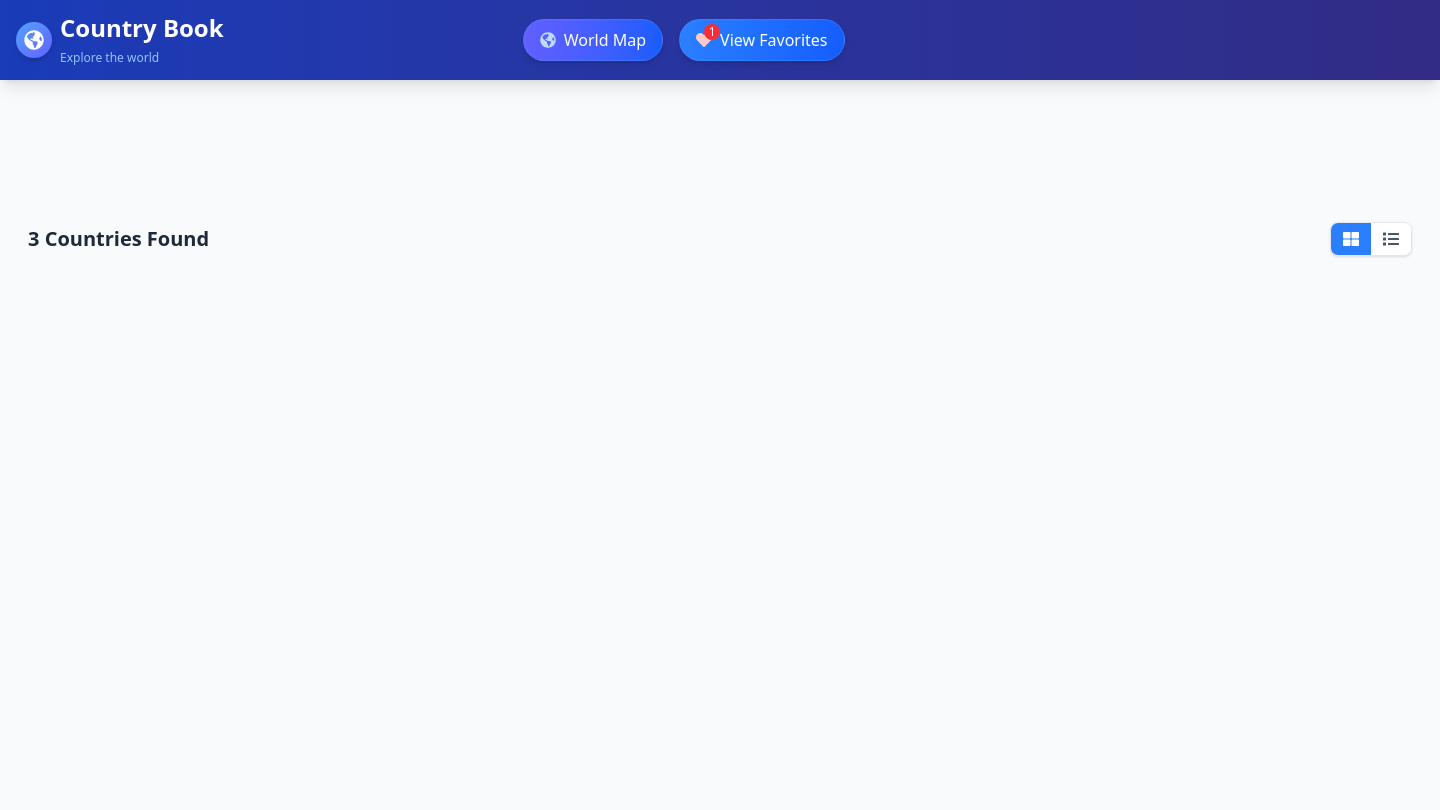
Scenario: Favorites Functionality Integration › should properly combine favorites filter with search
# Click the View Favorites button
Click the text "View Favorites" at (774, 40), box [720,28,828,52]
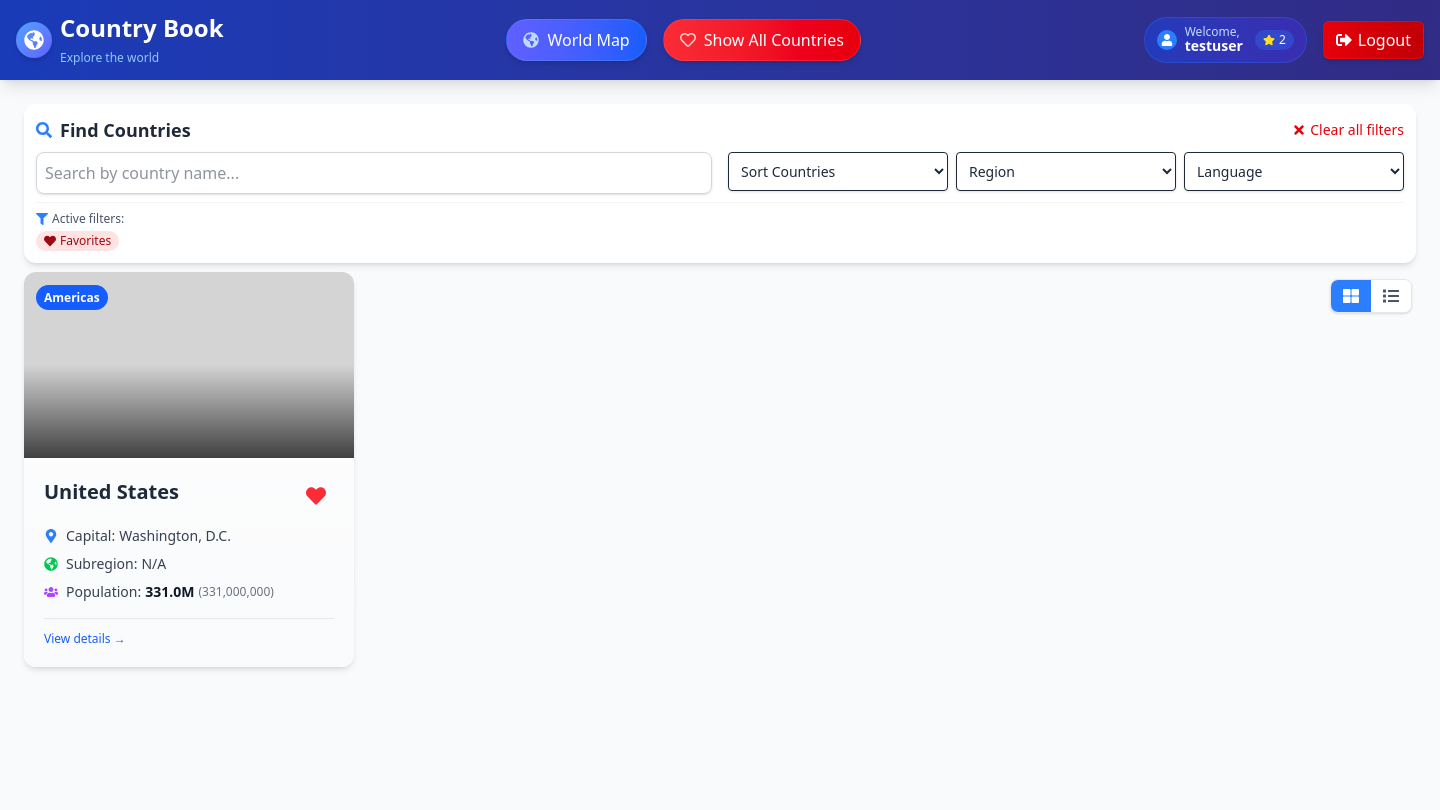
Check: the text "Favorites" is shown, box [36,231,119,251]
Check: the heading "1 Country in Favorites" is shown, box [28,282,247,310]
Check: the field with placeholder "Search by country name..." is shown
# Search for "Aus" within favorites
Type "Aus" into the field with placeholder "Search by country name..." at (374, 173), box [36,152,712,194]
Wait 500 ms
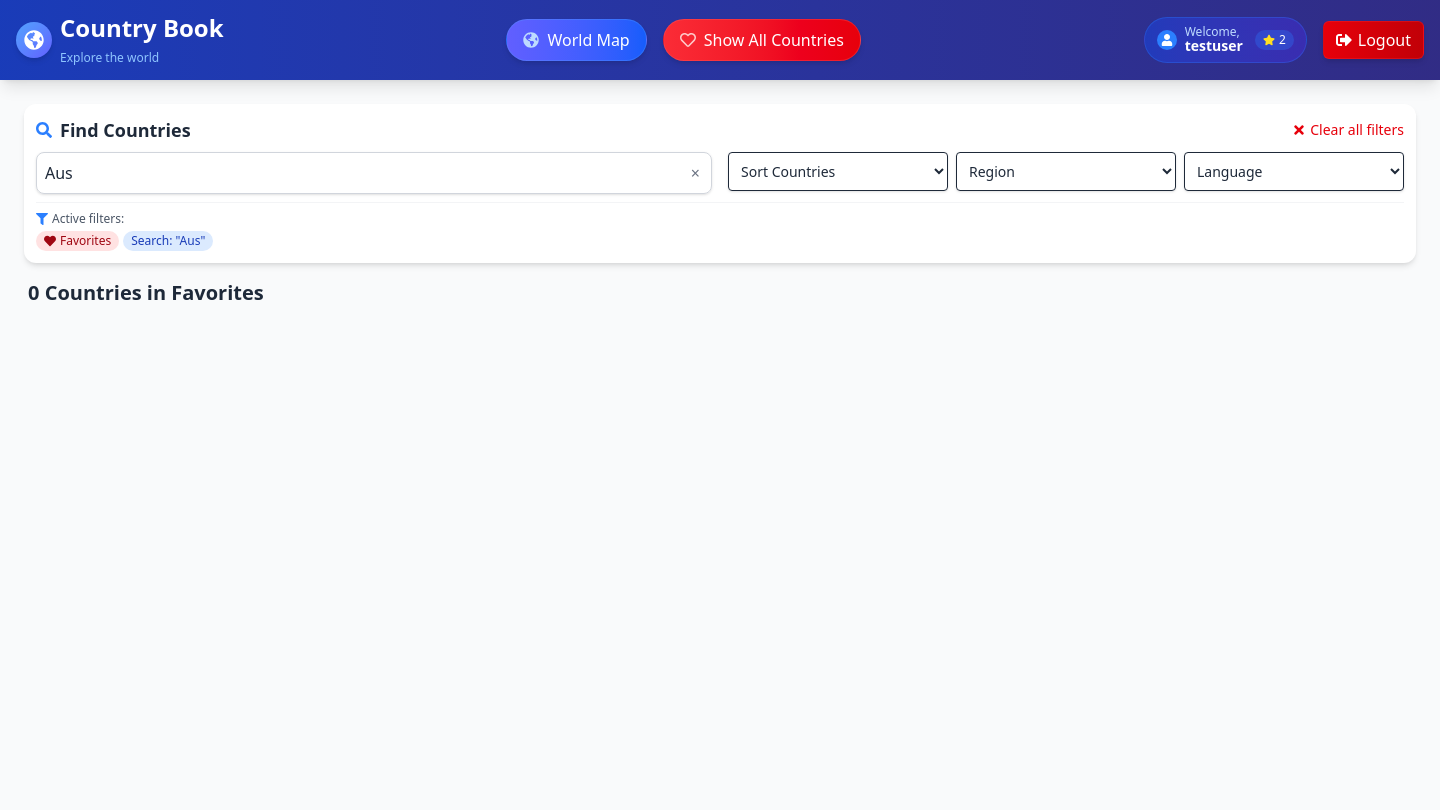
Check: the text "Search: \"Aus\"" is shown, box [123,231,213,251]
Check: the link "United States" is gone
